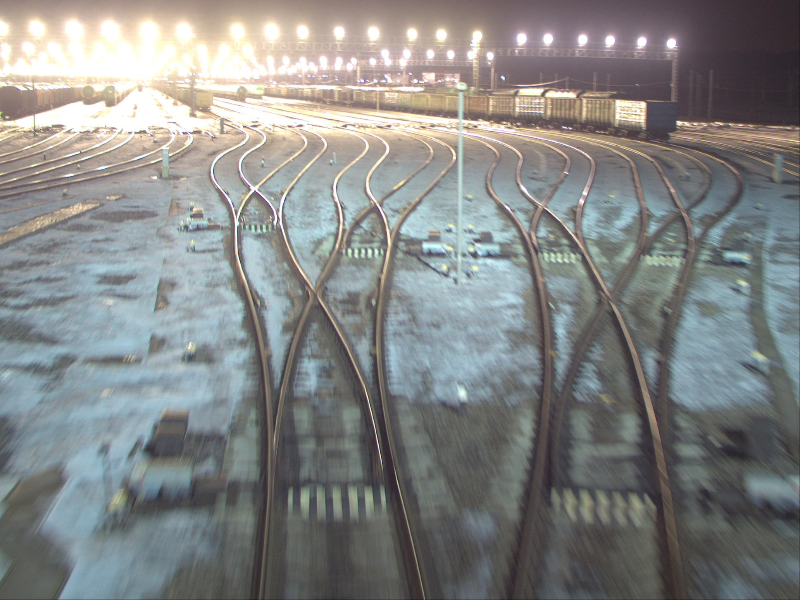railway_arrows: (544, 297, 687, 565), (264, 278, 387, 509), (519, 204, 595, 271), (335, 198, 402, 270), (644, 196, 698, 272), (224, 181, 284, 238)
